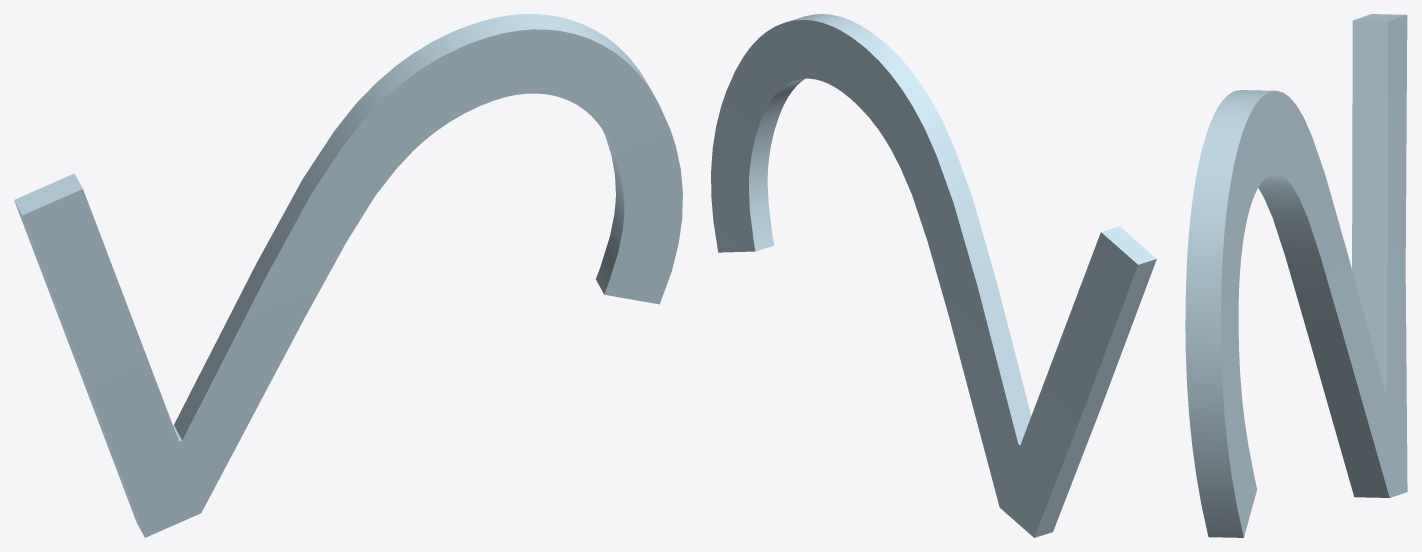
Rendered from Number_2.gltf.
3 renders of one model, left to right at view 1: azimuth 30°, elevation 25°; view 2: azimuth 150°, elevation 25°; view 3: azimuth 270°, elevation 25°, orthographic. The views are drawn at different scales.
Parts seen in each view (by area): view 1: Sub_5_Cell_3_3_Number_2; view 2: Sub_5_Cell_3_3_Number_2; view 3: Sub_5_Cell_3_3_Number_2.
Part boxes in pixels (x1,y1,x2,y2): Sub_5_Cell_3_3_Number_2: (14, 14, 682, 537); Sub_5_Cell_3_3_Number_2: (711, 14, 1156, 537); Sub_5_Cell_3_3_Number_2: (1185, 14, 1407, 537).
Size of the model in its own units: 0.0272 by 0.0214 by 0.00768.
